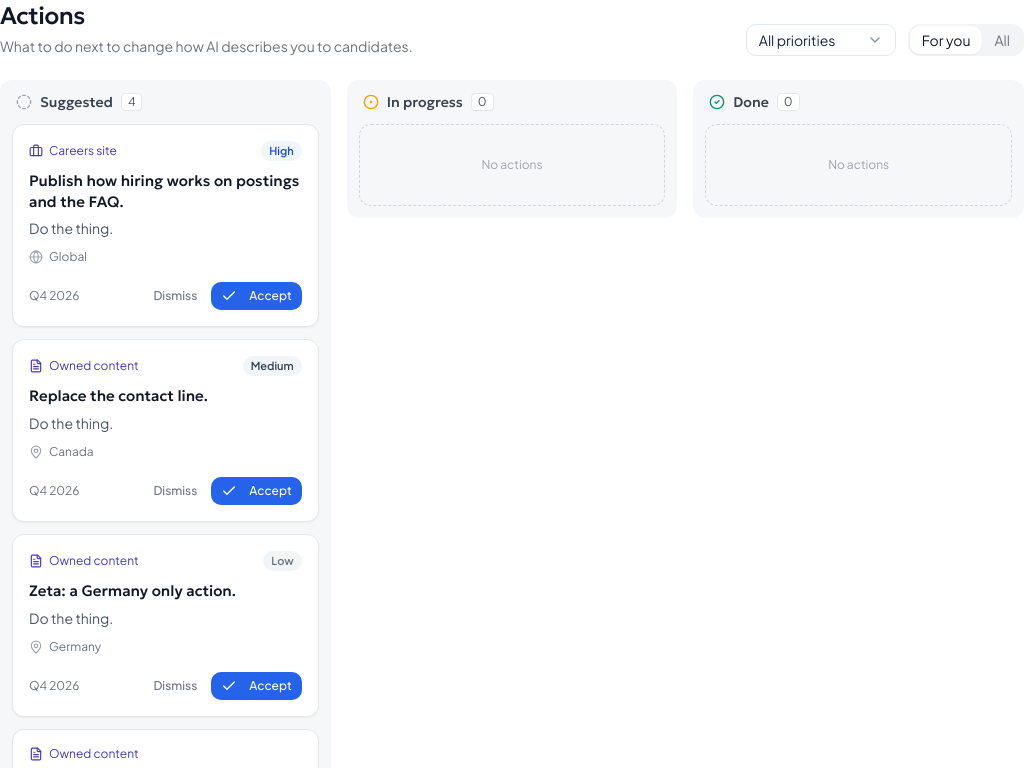
Test: ActionsTab priority › the detail says why this priority
The width and height of the screenshot is (1024, 768).
Expected: the heading "Suggested" is shown, [40,92,113,112]
Click the heading "Publish how hiring works on postings and the FAQ." at (165, 192), box [29,171,302,212]
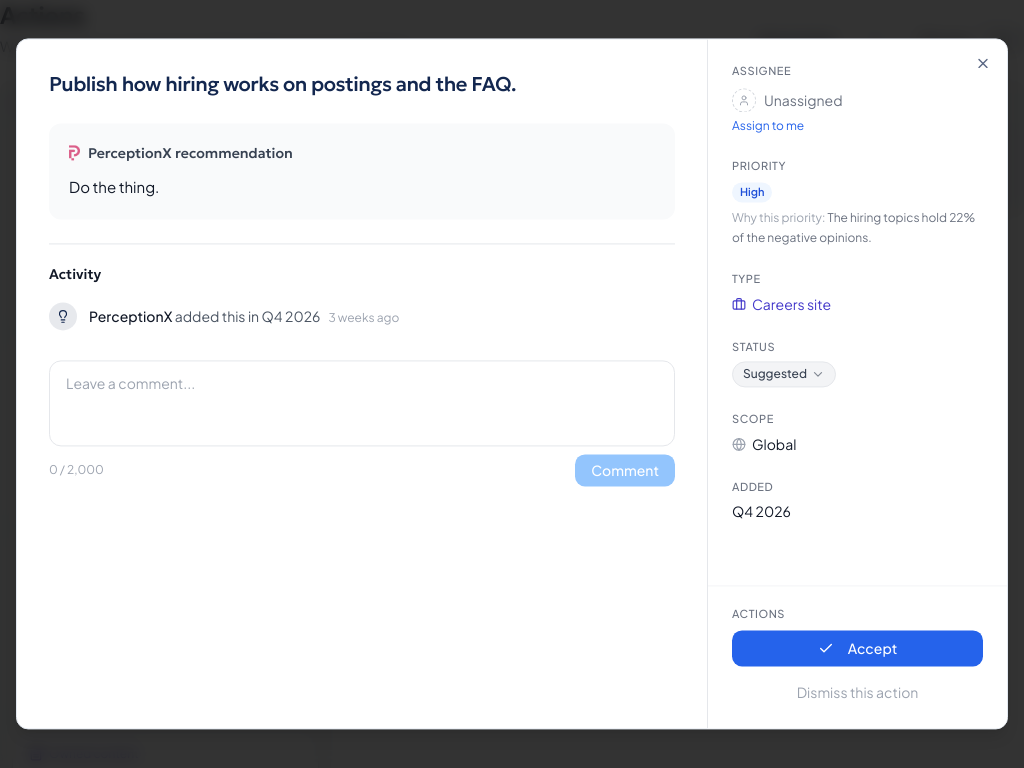
Result: the text "Why this priority:" is shown at [732,210,826,225]
Result: the text "The hiring topics hold 22% of the negative opinions." is shown at [732,210,975,245]
